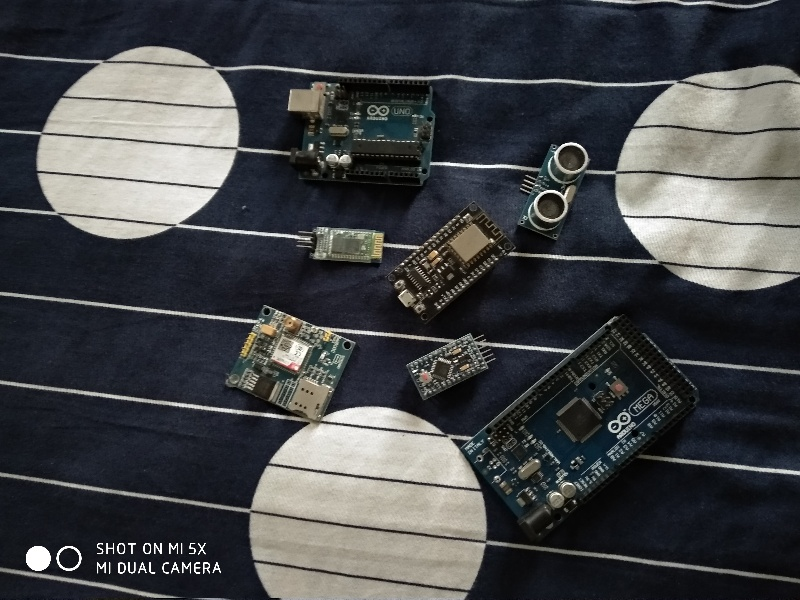Arduino Mega 2560: (459, 312, 704, 545)
Arduino Pro Mini: (406, 330, 490, 403)
Arduino UNO: (284, 76, 447, 196)
HC-05: (306, 221, 389, 270)
NodeMCU: (388, 198, 516, 323)
SIM800: (219, 297, 361, 430)
Sonar Sensor: (515, 135, 592, 244)
